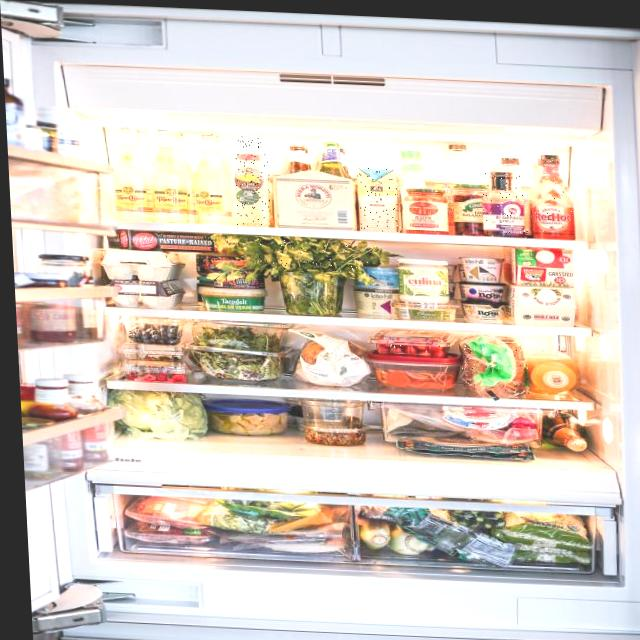blueberries: (132, 324, 175, 344)
bread: (460, 336, 529, 394)
milk: (233, 136, 272, 227), (357, 167, 401, 233)
parsley: (258, 237, 369, 277)
sauce: (532, 155, 575, 239), (481, 172, 528, 235)
tomato: (390, 345, 404, 355), (376, 346, 390, 355), (413, 339, 425, 349), (429, 342, 443, 350), (431, 350, 443, 357), (418, 350, 432, 356)
